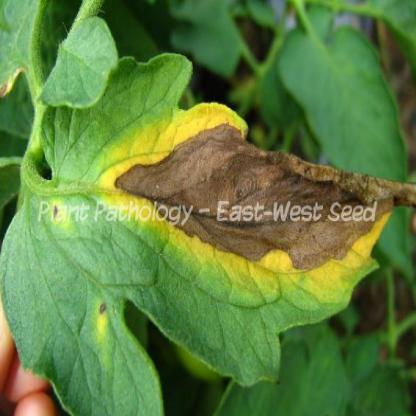tomato early blight leaf: (12, 36, 415, 404)
